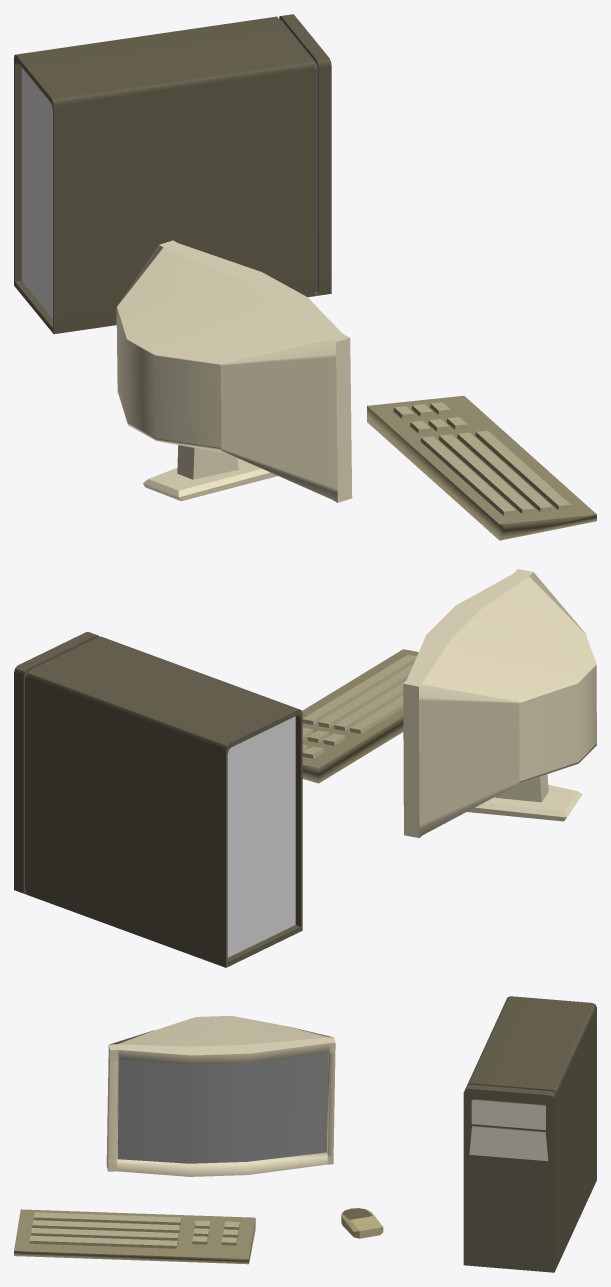
Rendered from AlterPC2.fbx.
3 renders of one model, top to bottom at view 1: azimuth 30°, elevation 25°; view 2: azimuth 150°, elevation 25°; view 3: azimuth 270°, elevation 25°, orthographic. The views are drawn at different scales.
Visible parts, largest first — view 1: Computer, Monitor, Tastatur; view 2: Computer, Monitor, Tastatur; view 3: Computer, MonitorGlas, Monitor, Tastatur, Maus.
Boxes of the visible parts, x1,y1,x2,y2 form: Computer: [14, 14, 331, 334]; Monitor: [116, 240, 352, 502]; Tastatur: [367, 395, 596, 540]; Computer: [14, 632, 302, 967]; Monitor: [403, 569, 596, 837]; Tastatur: [302, 649, 418, 783]; Computer: [463, 996, 596, 1272]; MonitorGlas: [117, 1052, 328, 1163]; Monitor: [106, 1015, 335, 1176]; Tastatur: [14, 1209, 255, 1264]; Maus: [341, 1208, 383, 1238].
Size of the model in its own units: 4.49 by 2.68 by 7.9.
